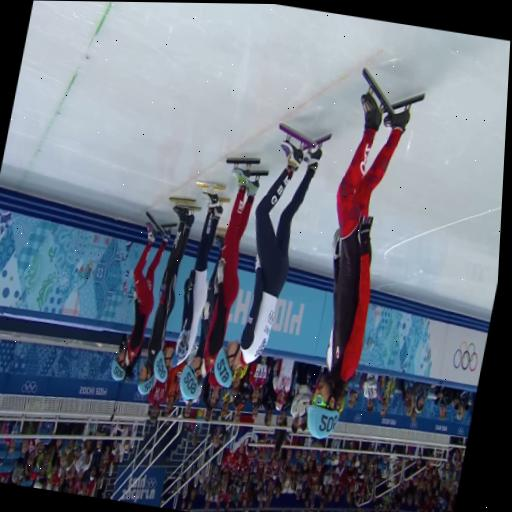Skater: (308, 68, 423, 438), (215, 123, 330, 386), (180, 158, 266, 399), (154, 182, 226, 381), (138, 198, 199, 393), (111, 213, 170, 379)
